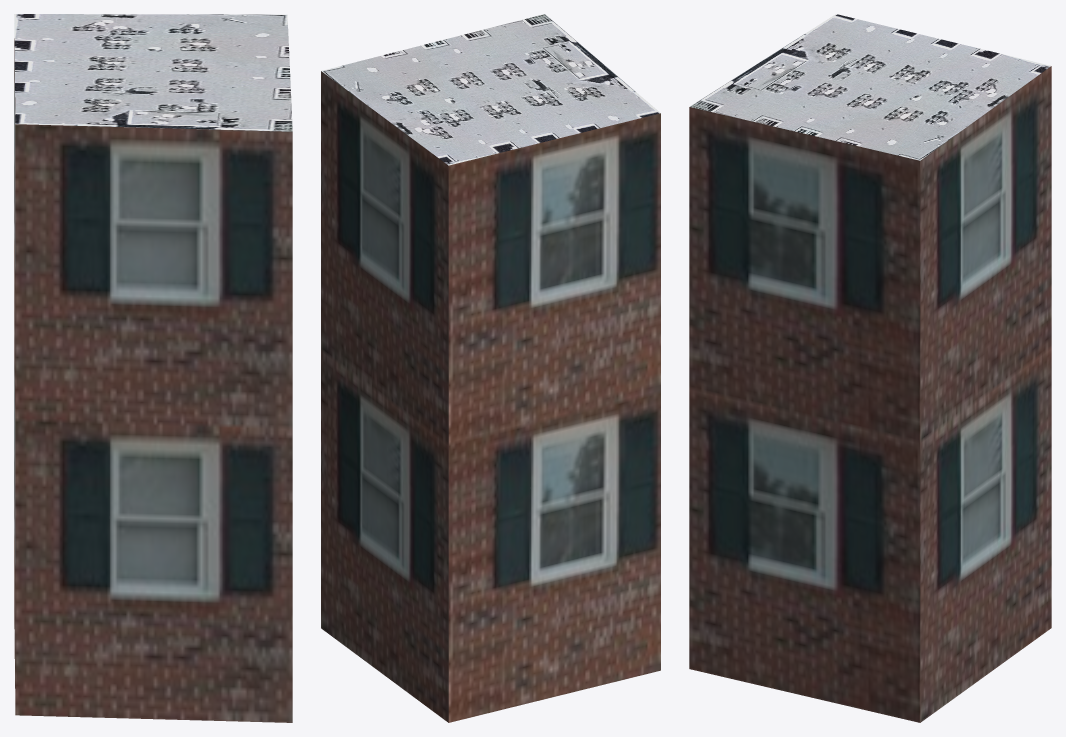
The model's file is ResTex__2588.fbx.
3 renders of one model, left to right at view 1: azimuth 30°, elevation 25°; view 2: azimuth 150°, elevation 25°; view 3: azimuth 270°, elevation 25°, orthographic. The views are drawn at different scales.
Parts seen in each view (by area): view 1: CityEngineMaterial_14_m, CityEngineMaterial_4_m; view 2: CityEngineMaterial_14_m, CityEngineMaterial_4_m; view 3: CityEngineMaterial_14_m, CityEngineMaterial_4_m.
Boxes of the visible parts, x1=… form: CityEngineMaterial_14_m: x1=14, y1=38, x2=292, y2=722; CityEngineMaterial_4_m: x1=14, y1=14, x2=292, y2=131; CityEngineMaterial_14_m: x1=321, y1=71, x2=660, y2=722; CityEngineMaterial_4_m: x1=321, y1=14, x2=660, y2=165; CityEngineMaterial_14_m: x1=689, y1=66, x2=1051, y2=722; CityEngineMaterial_4_m: x1=690, y1=14, x2=1050, y2=160.
Bounding box in the file's own units: 3.36 × 6 × 3.5.
2 materials, 2 textured.
